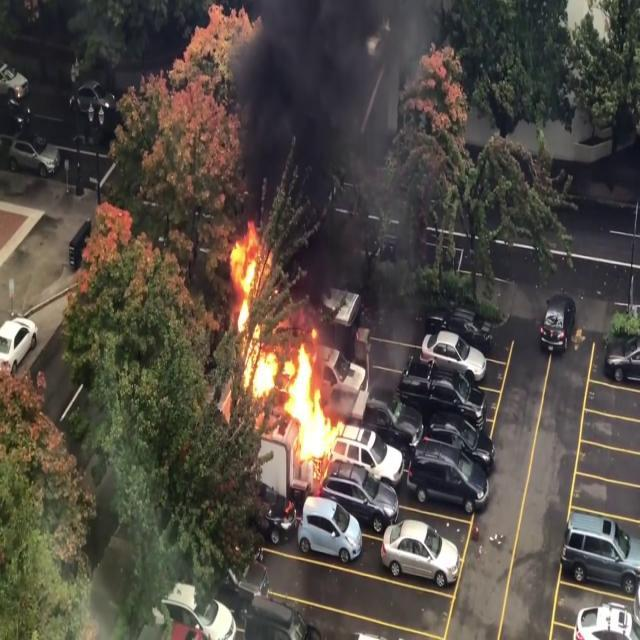Fire: (224, 218, 356, 474)
Smoke: (226, 7, 402, 258)
